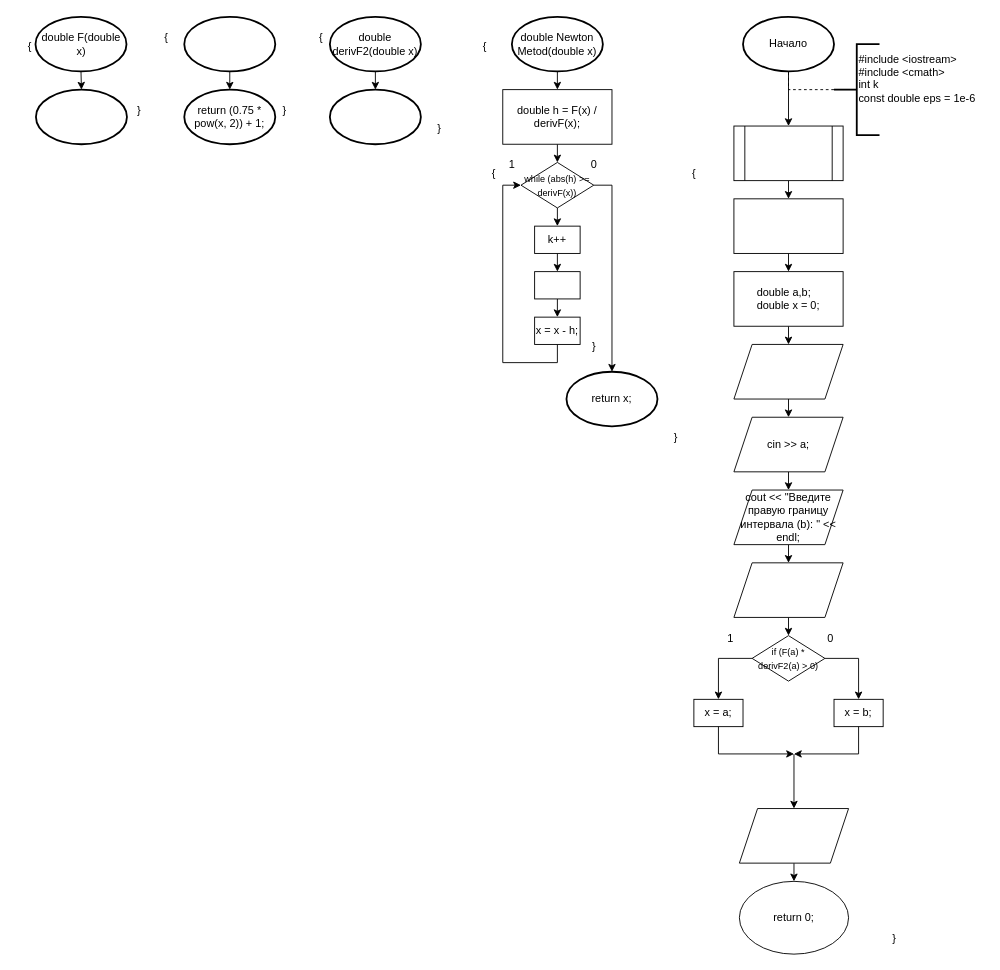
Some shapes in this 1000 by 970 pixel diagram are drawn without their labels. The shapes that lost their labels are listed below. From the top down, each one's centre as x and y in pixels, then its label:
(x=229, y=43): double derivF(double x)
(x=81, y=116): return 0.25 * pow(x,3) + x - 1.2502;
(x=375, y=116): return 1.5 * x;
(x=788, y=153): int main()
(x=788, y=225): setlocale(LC_ALL, "RU");
(x=557, y=285): h = F(x) / derivF(x);
(x=788, y=371): cout << "Введите левую границу интервала (a): " << endl;
(x=788, y=589): cin >> b;
(x=793, y=835): cout << NewtonMetod(x) << endl << "Количество итераций: " << k;
